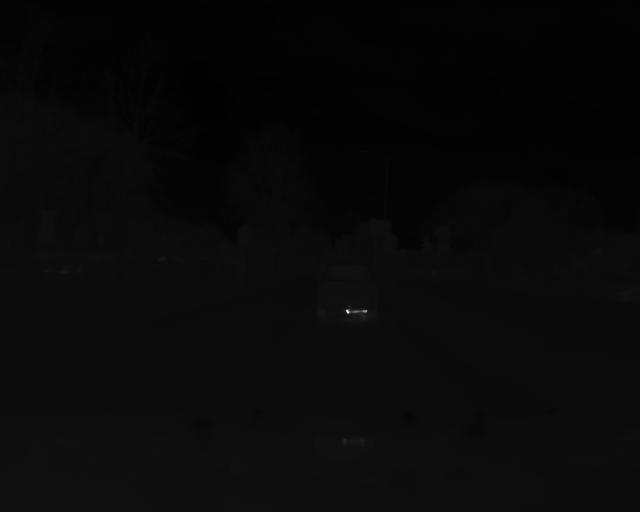car: (314, 261, 385, 332)
